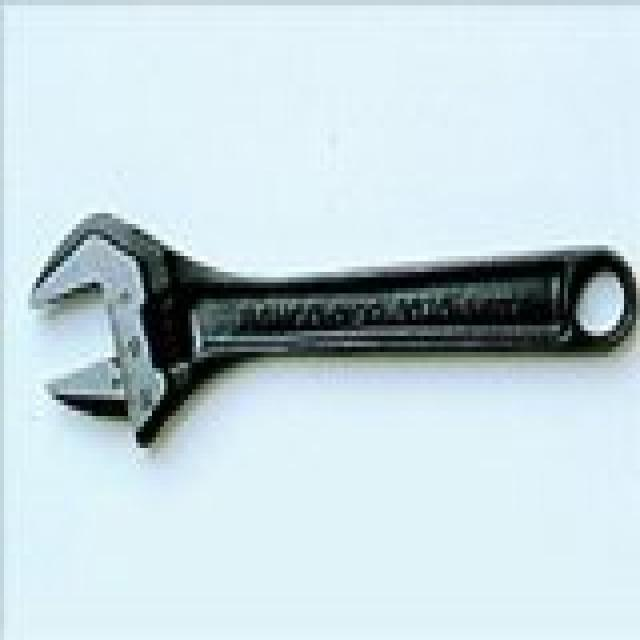wrench: (17, 187, 640, 447)
